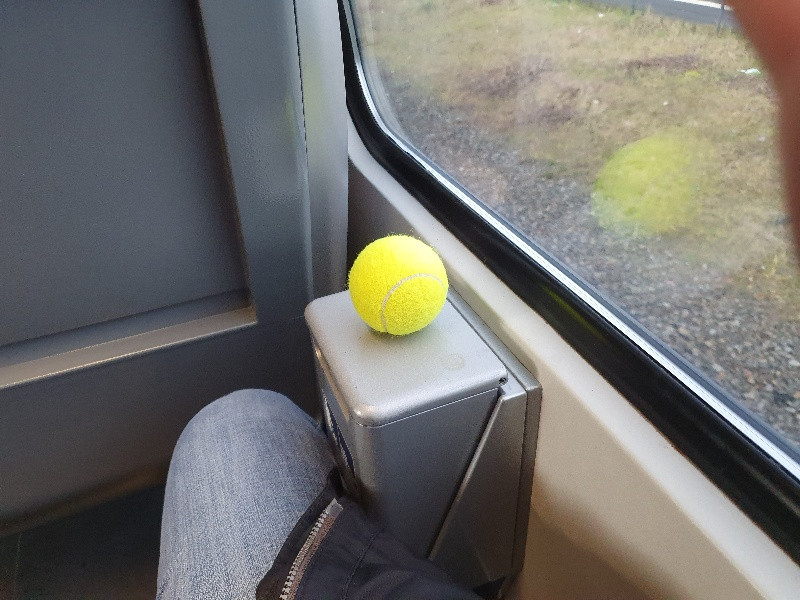Tennisball: (327, 227, 463, 351)
